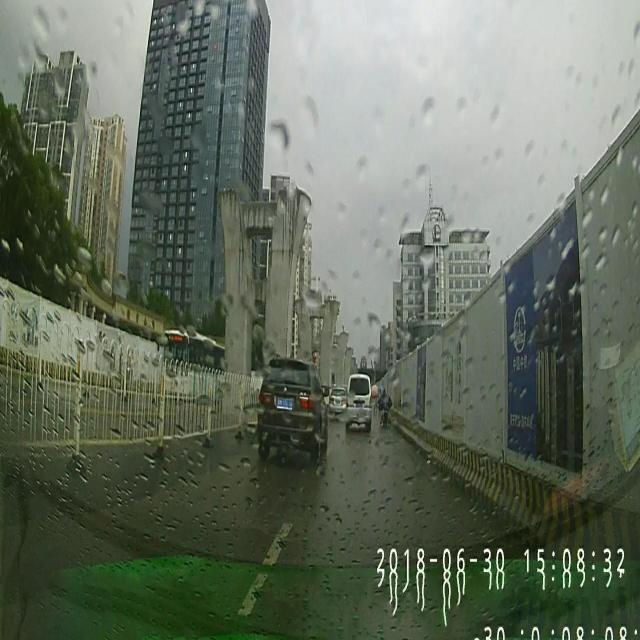car: (256, 354, 330, 461), (346, 374, 373, 436), (328, 386, 348, 422)
